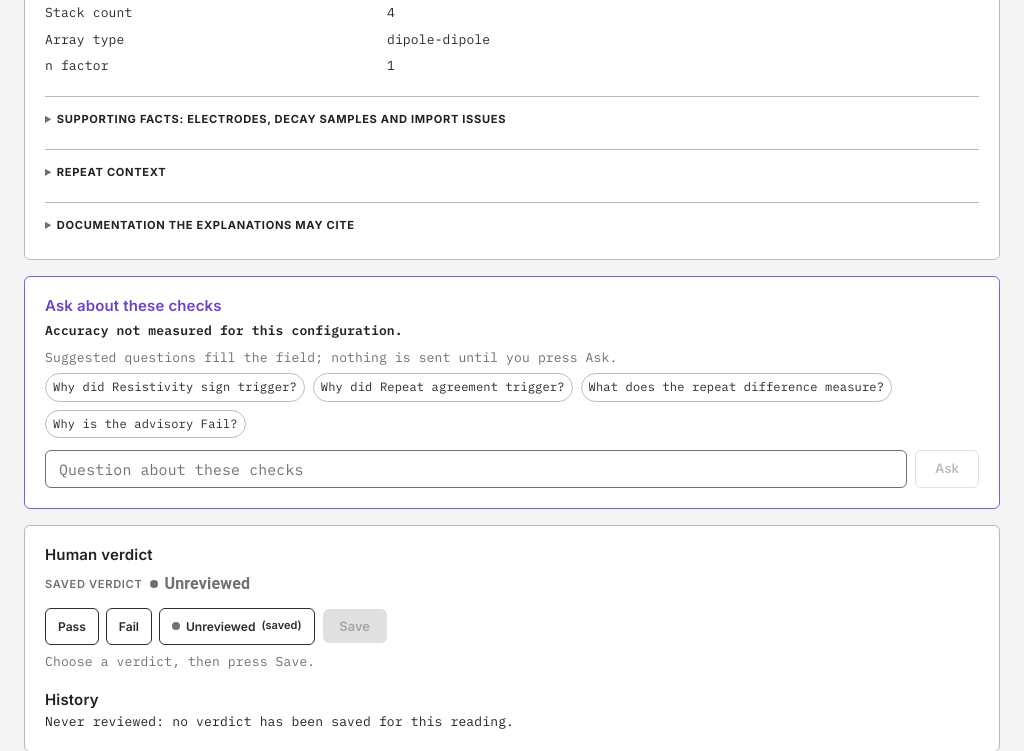
Test: asking › withholds the whole answer, showing the problems and never the rejected text
(page scrolled)
In the field labelled "Question about these checks": (476, 469) [45,450,907,488], type "Why?"
Then press Enter
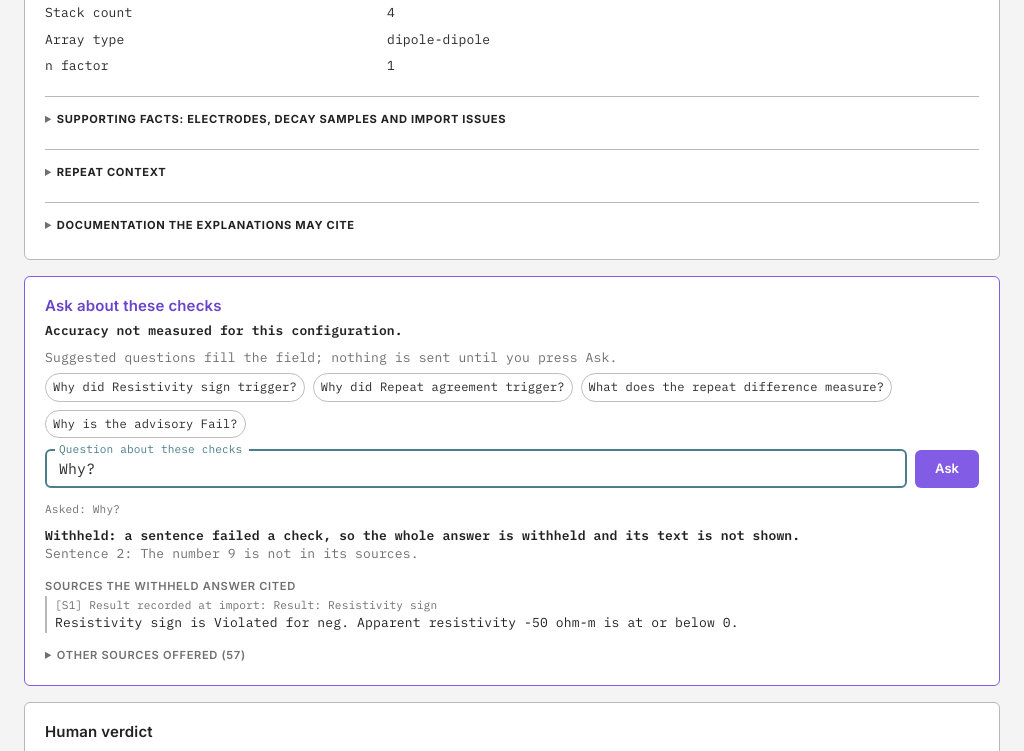
Expected: the text "Withheld: a sentence failed a check" is shown, [45,526,800,544]
Expected: the text "Sentence 2: The number 9 is not in its sources." is shown, [45,545,419,562]
